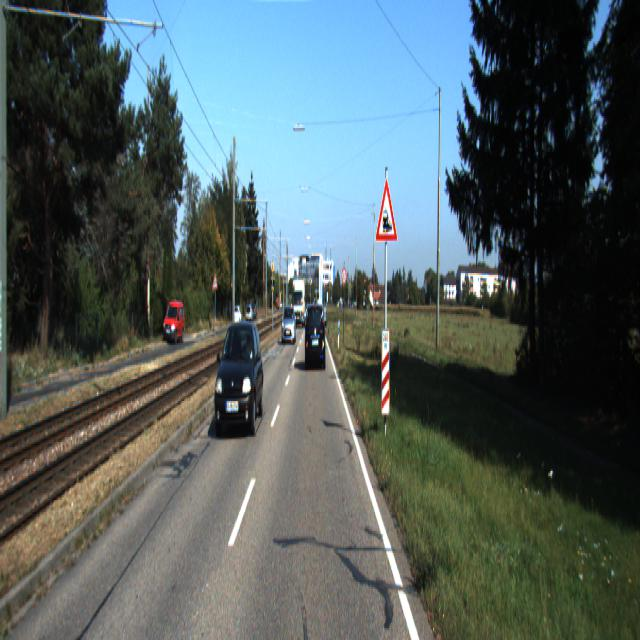Car: (213, 315, 265, 441), (306, 301, 326, 371), (163, 302, 184, 348), (282, 306, 296, 346)
